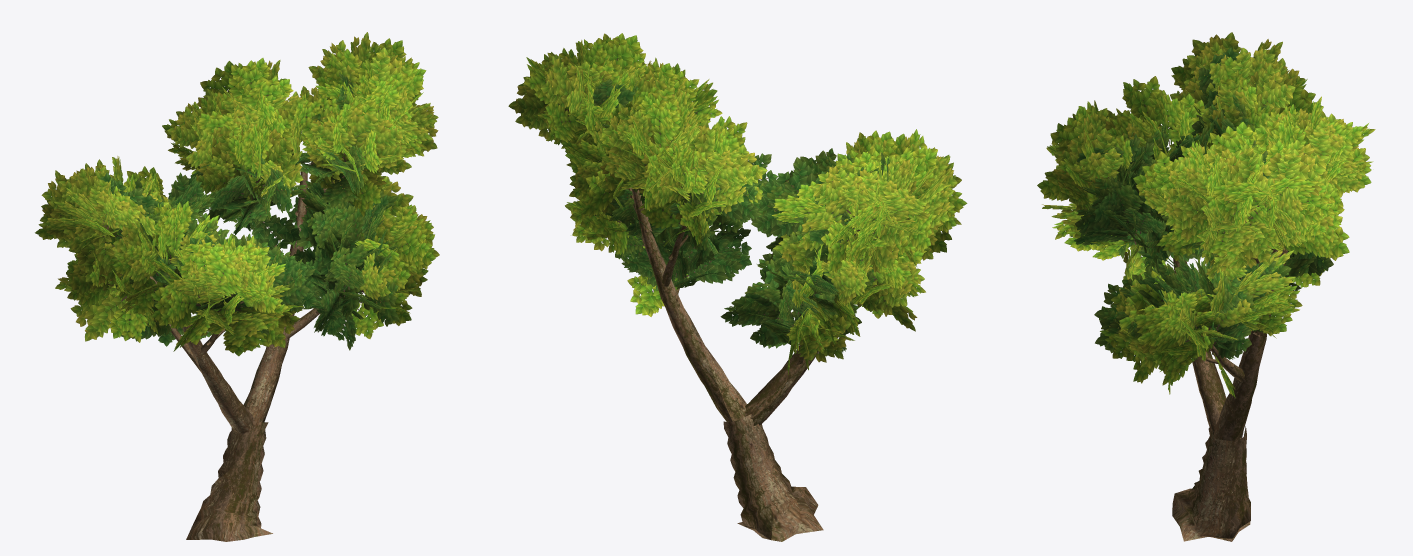
The model's file is laubbaum-2.glb.
3 renders of one model, left to right at view 1: azimuth 30°, elevation 25°; view 2: azimuth 150°, elevation 25°; view 3: azimuth 270°, elevation 25°, orthographic. The views are drawn at different scales.
Parts seen in each view (by area): view 1: laubbaum-2; view 2: laubbaum-2; view 3: laubbaum-2.
Part boxes in pixels (box(x1,y1,x2,y2)): laubbaum-2: box(35, 32, 439, 541); laubbaum-2: box(508, 33, 967, 541); laubbaum-2: box(1037, 32, 1375, 541).
Bounding box in the file's own units: 10.98 × 10.94 × 7.71.
Materials: 2 (2 with a texture image).
